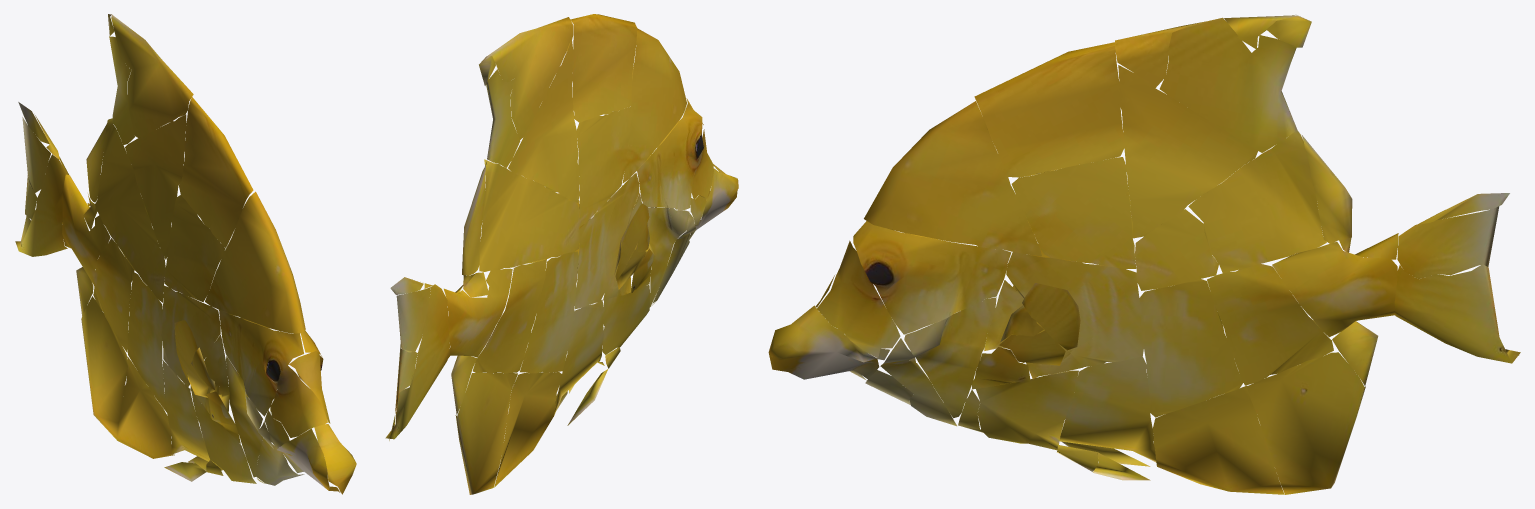
File: trop_yellow_tang.glb
The picture shows the model from 3 angles, left to right: view 1: azimuth 30°, elevation 25°; view 2: azimuth 150°, elevation 25°; view 3: azimuth 270°, elevation 25°; orthographic projection. The views are drawn at different scales.
Parts seen in each view (by area): view 1: tripo_node_0b1861a2-000d-45ac-89ee-d585d72f2e7b; view 2: tripo_node_0b1861a2-000d-45ac-89ee-d585d72f2e7b; view 3: tripo_node_0b1861a2-000d-45ac-89ee-d585d72f2e7b.
Boxes of the visible parts, box(x1,y1,x2,y2) form: tripo_node_0b1861a2-000d-45ac-89ee-d585d72f2e7b: box(15, 14, 356, 494); tripo_node_0b1861a2-000d-45ac-89ee-d585d72f2e7b: box(385, 14, 738, 494); tripo_node_0b1861a2-000d-45ac-89ee-d585d72f2e7b: box(768, 15, 1520, 494).
Bounding box in the file's own units: 0.1314 × 0.7 × 0.9959.
Materials: 1 (1 with a texture image).
